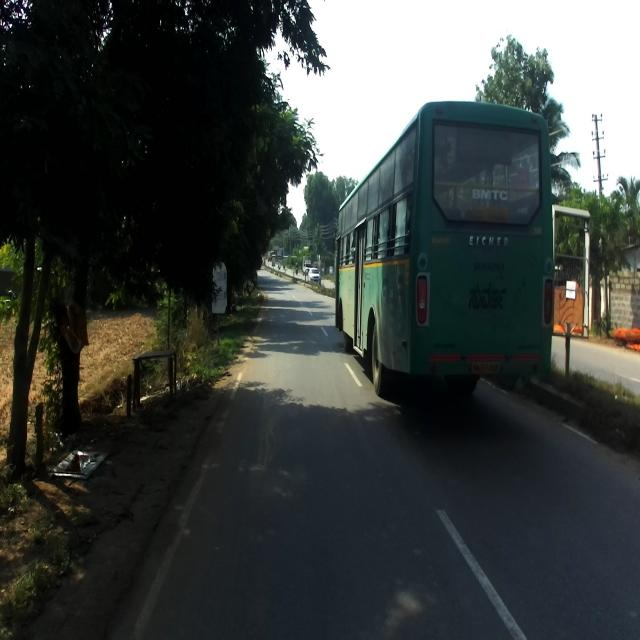bus: (332, 100, 555, 397)
